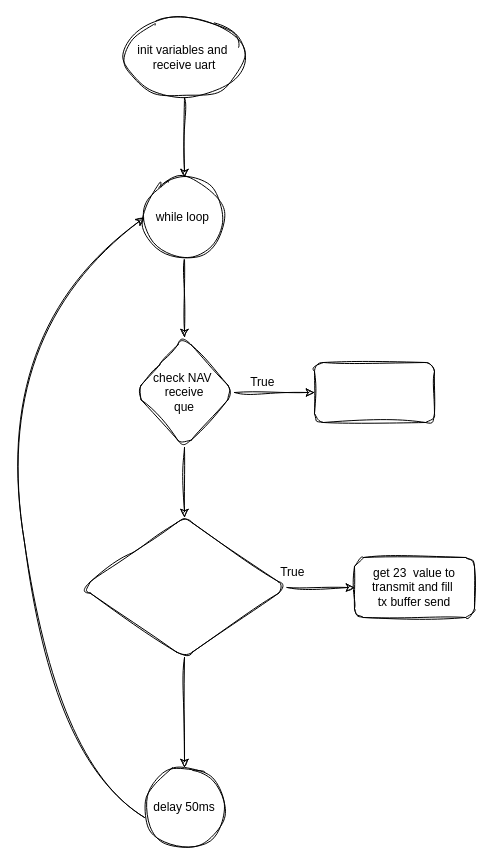
The diagram is 492 pixels wide and 865 high, and some of its shapes have lost their labels. The shapes that lost their labels are listed below. From the top down, each one's box as (x1, y1, x2, y2) in pixels, then its label:
(314, 362, 434, 422): handle data
(81, 516, 287, 658): xNAVRecTxQueue receive
